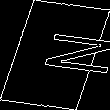N_W: (9, 30, 101, 80)
